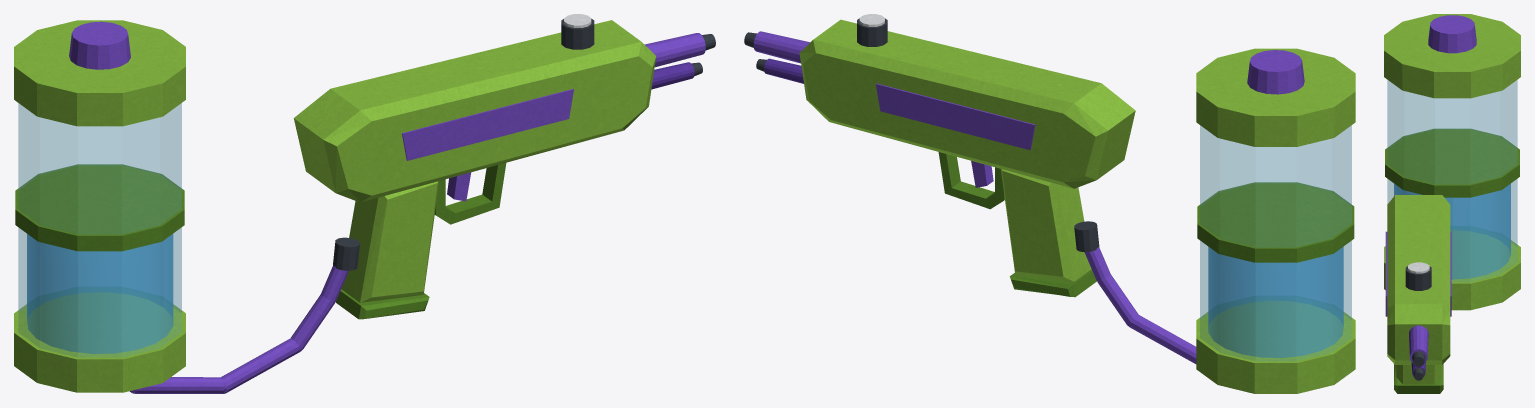
Rendered from monsoon_v2.glb.
3 views of the same model, side by side, from view 1: azimuth 30°, elevation 25°; view 2: azimuth 150°, elevation 25°; view 3: azimuth 270°, elevation 25° (orthographic). The views are drawn at different scales.
Visible parts, largest first — view 1: body, water; view 2: body, water; view 3: body, water.
Boxes of the visible parts, left/top/right/bottom form: body: left=14, top=14, right=715, bottom=393; water: left=27, top=234, right=173, bottom=353; body: left=744, top=14, right=1355, bottom=393; water: left=1208, top=247, right=1343, bottom=357; body: left=1384, top=14, right=1520, bottom=393; water: left=1394, top=183, right=1510, bottom=279.
Bounding box in the file's own units: 0.5439 × 0.288 × 0.1217.
Materials: 8 (6 with a texture image).
